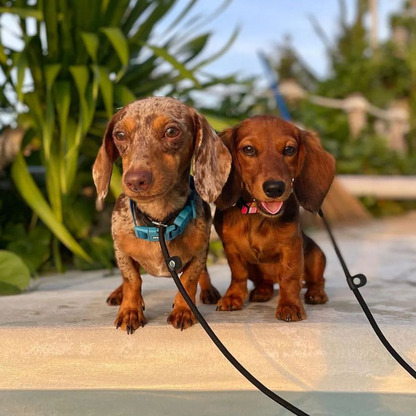dachshund: (73, 97, 232, 334), (214, 111, 348, 339)
